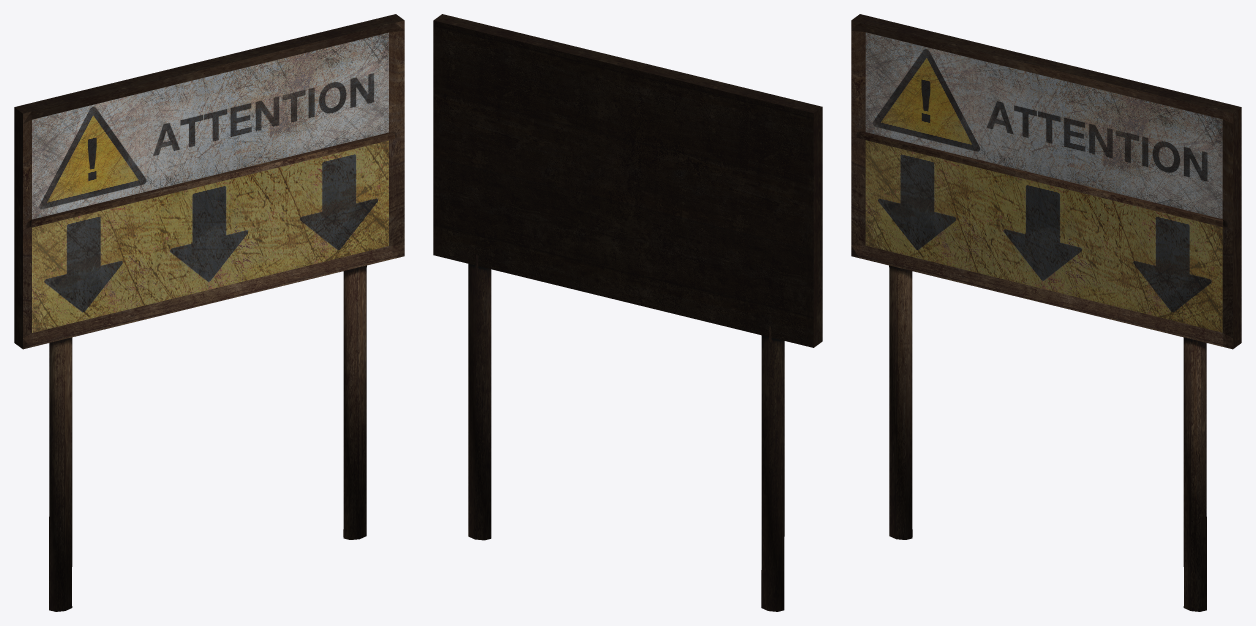
File: obstacle_top.dae
The picture shows the model from 3 angles, left to right: view 1: azimuth 30°, elevation 25°; view 2: azimuth 150°, elevation 25°; view 3: azimuth 330°, elevation 25°; orthographic projection.
Visible parts, largest first — view 1: Obstacle Top, Poles; view 2: Obstacle Top, Poles; view 3: Obstacle Top, Poles.
Boxes of the visible parts, bbox=[...] form: Obstacle Top: bbox=[14, 14, 404, 349]; Poles: bbox=[49, 265, 366, 611]; Obstacle Top: bbox=[433, 14, 822, 347]; Poles: bbox=[468, 254, 784, 611]; Obstacle Top: bbox=[851, 14, 1241, 349]; Poles: bbox=[889, 265, 1206, 611].
Size of the model in its own units: 5.72 by 0.2867 by 7.28.
Materials: 4 (4 with a texture image).
